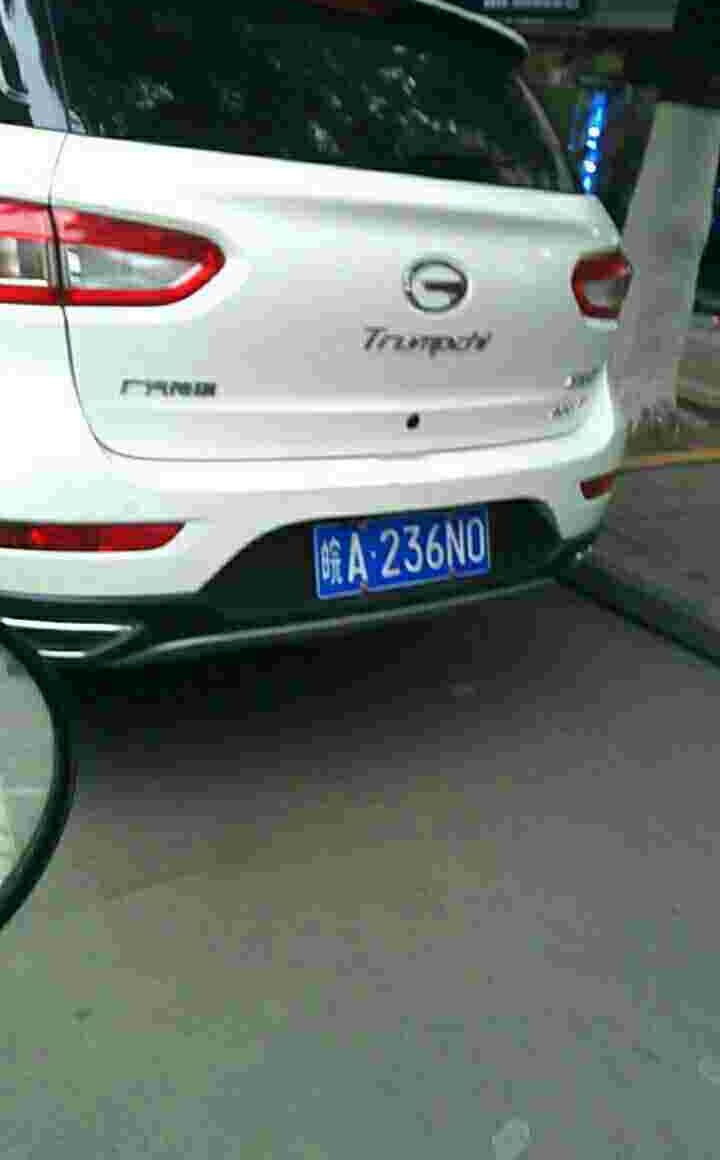plate: (321, 498, 498, 601)
